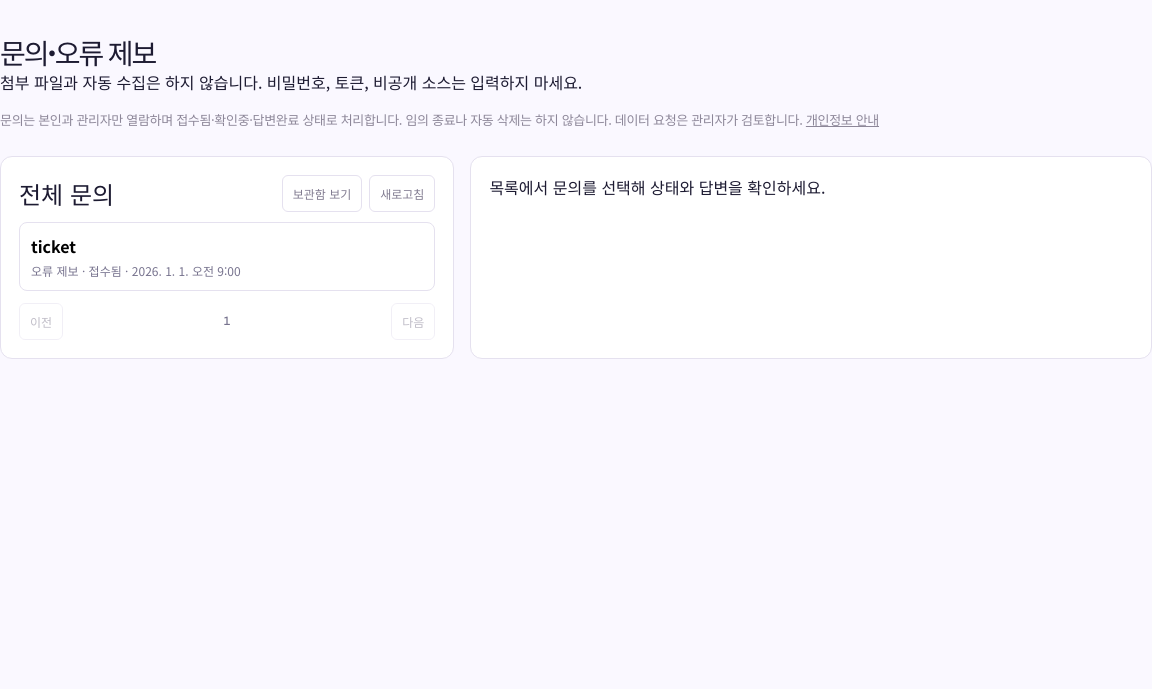
Test: SupportView › clears detail and drafts on a 409 before an administrator write
The width and height of the screenshot is (1152, 689).
Step 1. Click the text "ticket" → {"x": 53, "y": 246}, box [31,234,76,258]
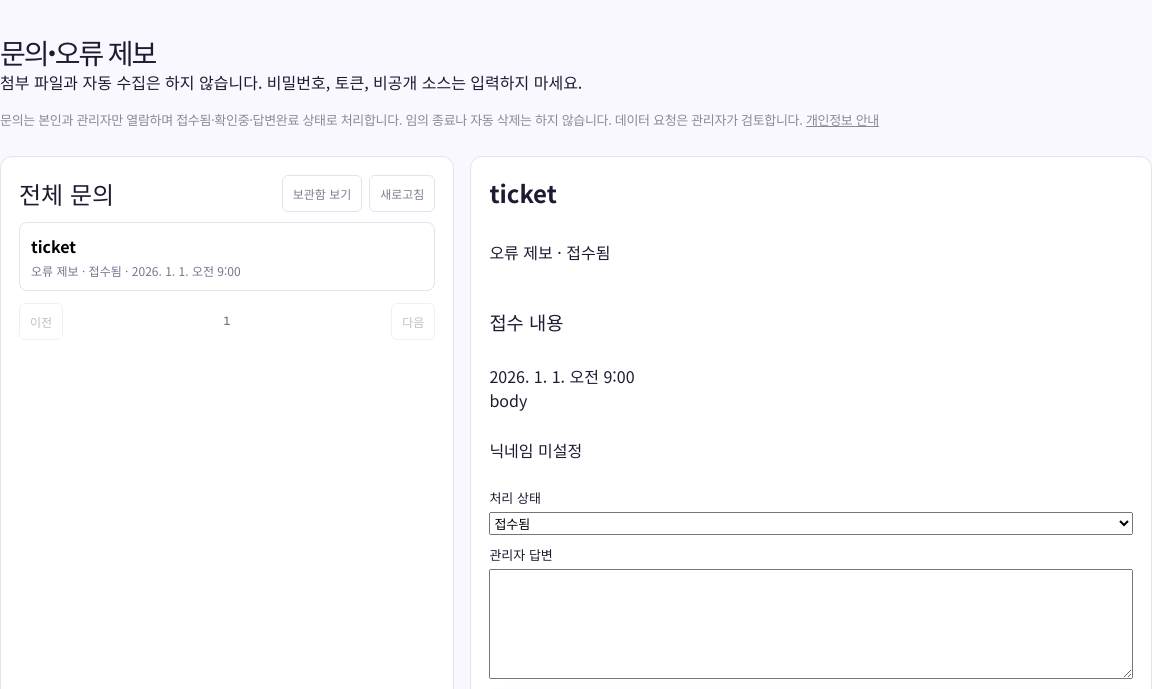
Now the heading "접수 내용" is shown, box [489,308,564,335]
Step 2. Type "draft" into the text box labelled "관리자 답변" → {"x": 811, "y": 624}, box [489,569,1133,679]
(page scrolled)
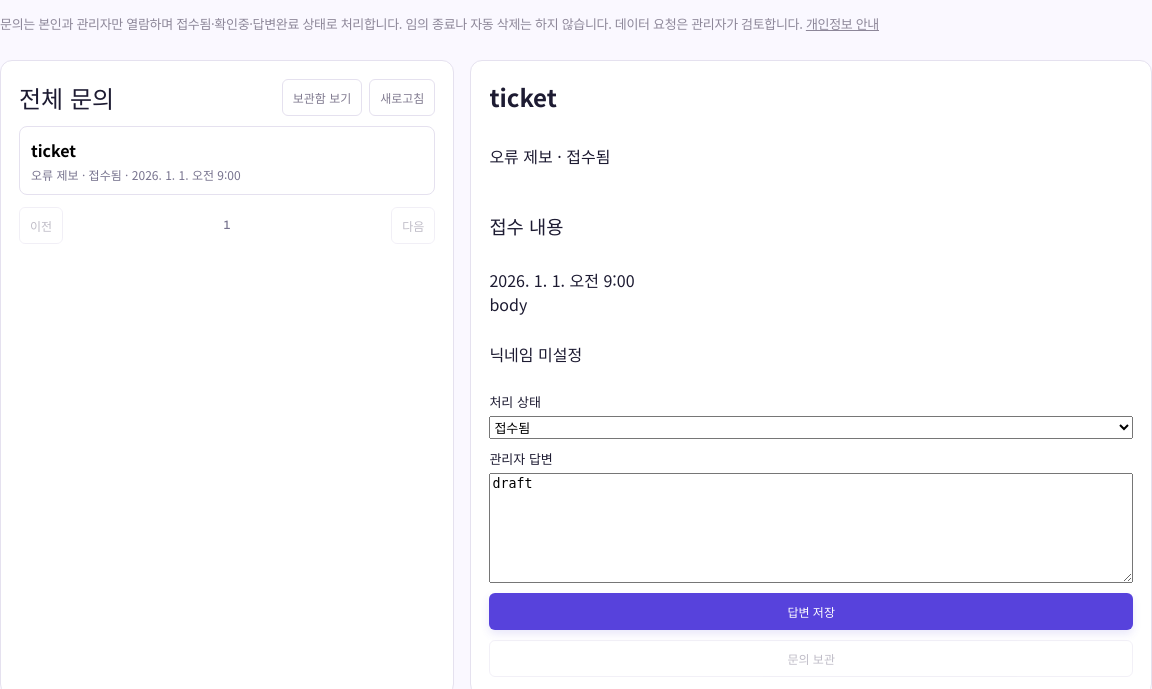
Step 3. Click the button "답변 저장" → {"x": 811, "y": 611}, box [489,593,1133,630]
(page scrolled)
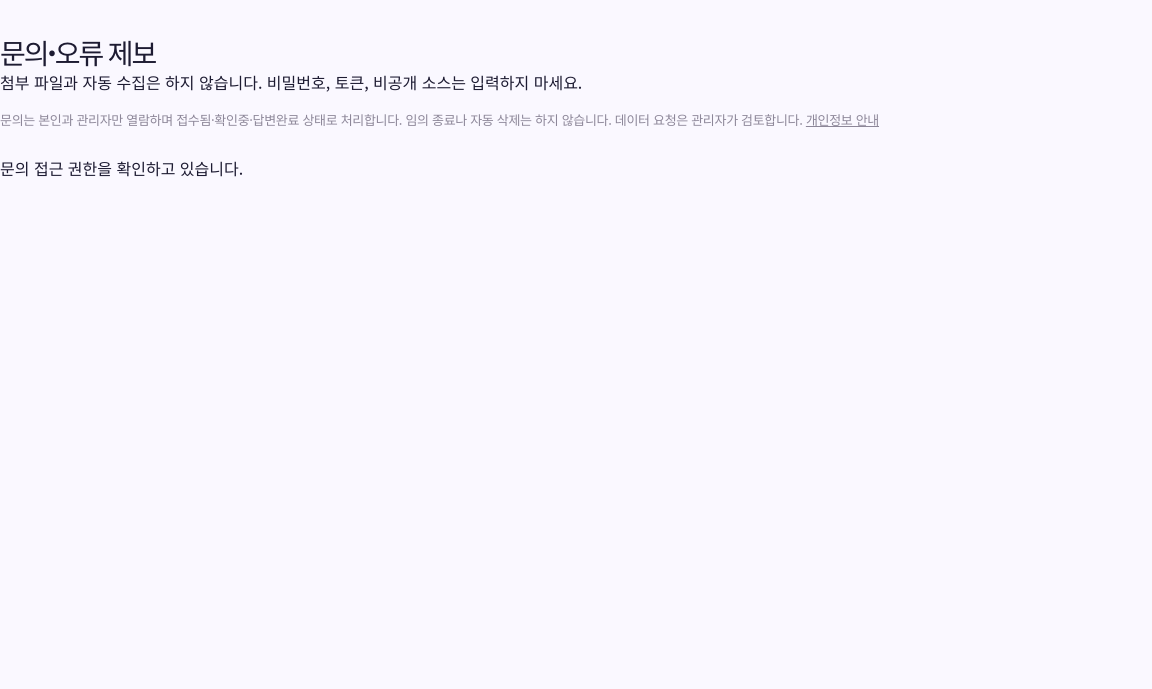
Now the label labelled "관리자 답변" is gone
